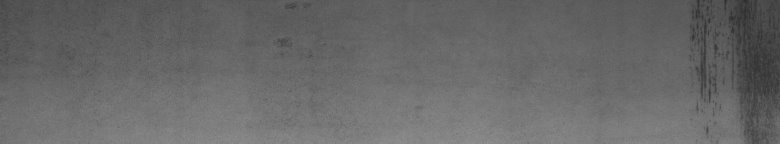ka: (688, 4, 765, 136)
